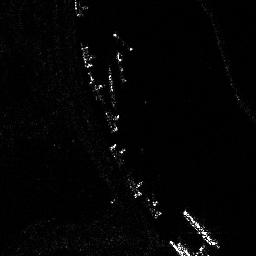ship: (179, 207, 221, 249)
